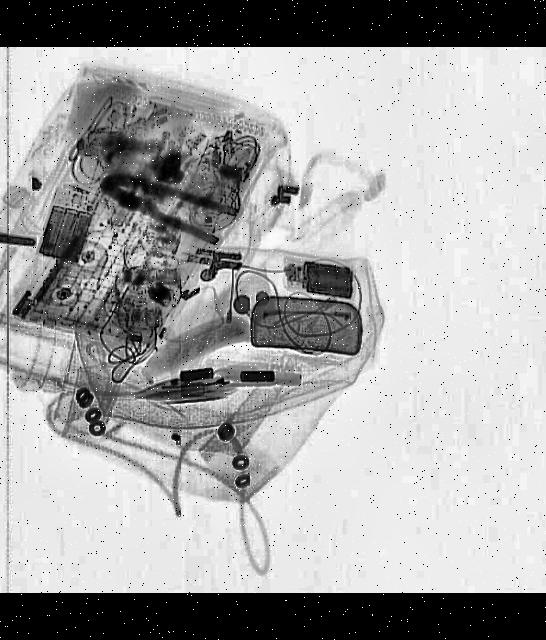Pliers: (90, 165, 240, 249)
